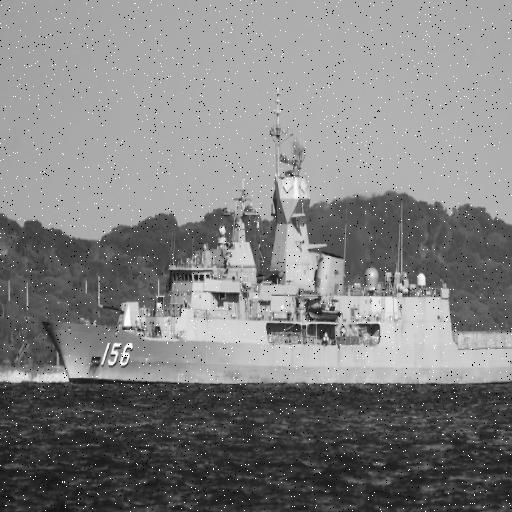Fragata: (40, 87, 512, 393)
